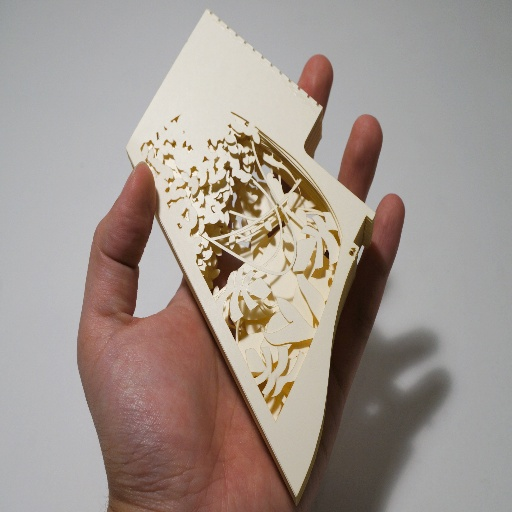hand: (115, 89, 391, 506)
